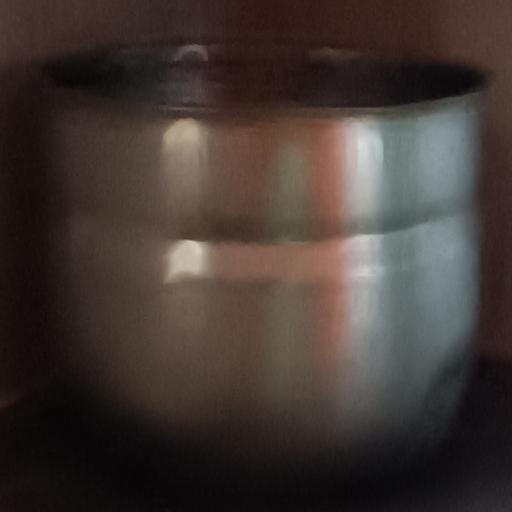vessel: (45, 42, 485, 467)
